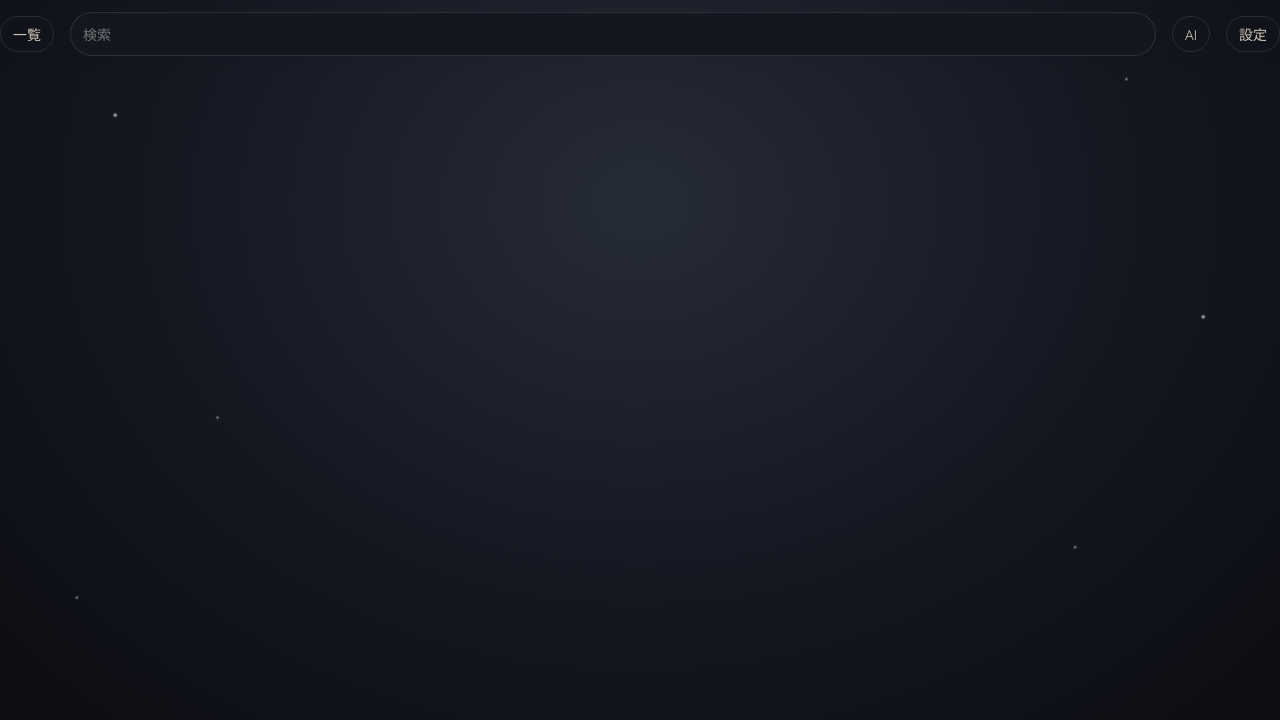
Test: AppHeader › 登録済みなら、使ったものを出して、Googleとログインの入り口は出さない
Click the button "設定" at (1253, 34), box x1=1226 y1=16 x2=1279 y2=52
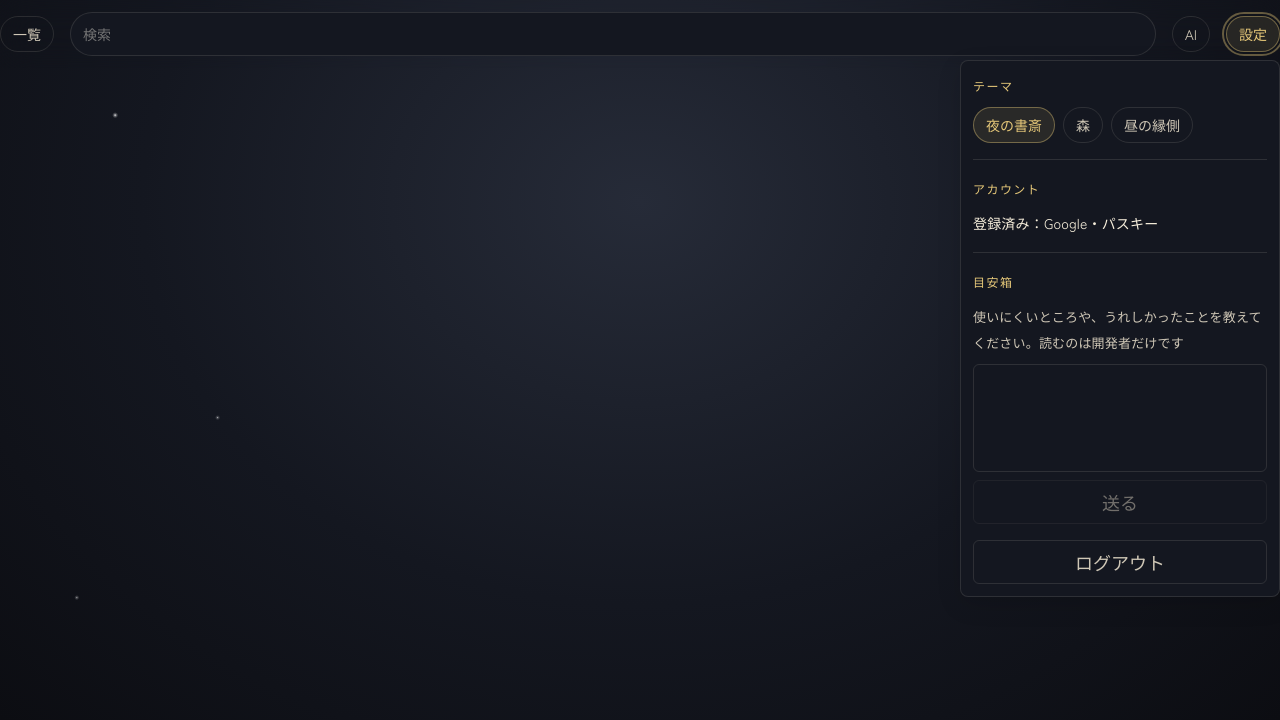
Result: the text "登録済み：Google・パスキー" is shown at x1=973 y1=213 x2=1158 y2=233
